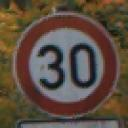speed_limit_30: (11, 12, 123, 116)
